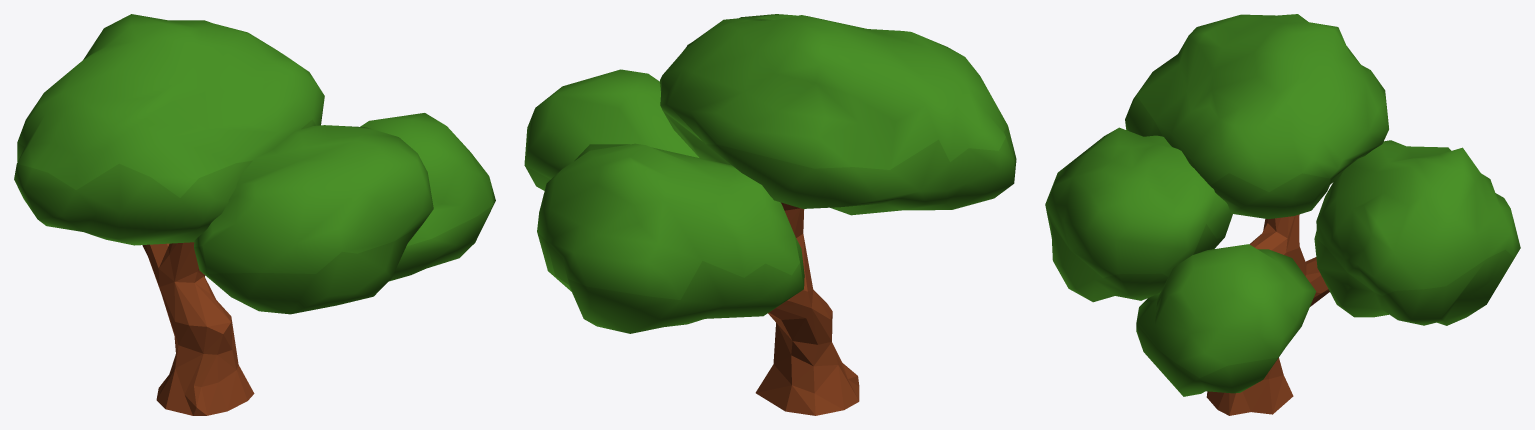
Rendered from BG_Tree_04.fbx.
3 views of the same model, side by side, from view 1: azimuth 30°, elevation 25°; view 2: azimuth 150°, elevation 25°; view 3: azimuth 270°, elevation 25° (orthographic). The views are drawn at different scales.
Parts seen in each view (by area): view 1: BG_Tree_04; view 2: BG_Tree_04; view 3: BG_Tree_04.
Boxes of the visible parts, bbox=[...] form: BG_Tree_04: bbox=[14, 14, 495, 415]; BG_Tree_04: bbox=[524, 14, 1016, 415]; BG_Tree_04: bbox=[1045, 14, 1520, 415].
Size of the model in its own units: 68.98 by 52.64 by 63.96.
